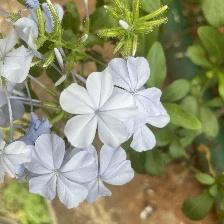chitrak: (23, 127, 96, 211), (63, 75, 136, 158)
